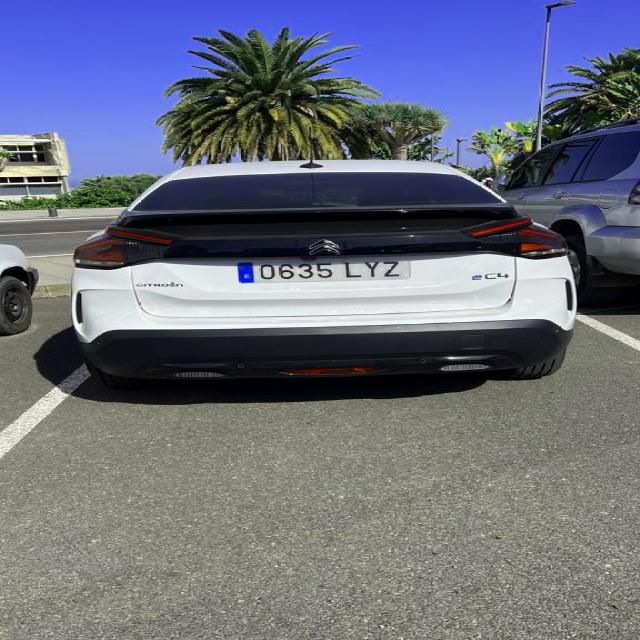License-Plate: (235, 257, 414, 285)
